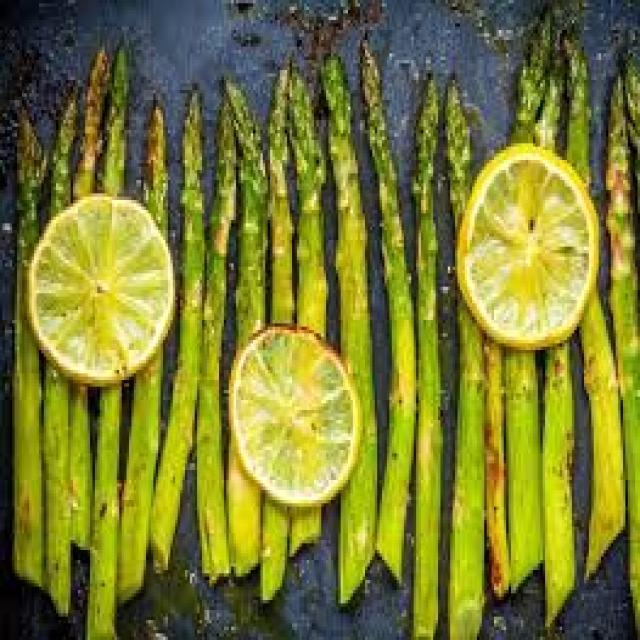organic waste: (319, 50, 377, 600), (358, 33, 413, 580), (452, 137, 598, 343), (530, 76, 582, 636), (22, 190, 170, 380), (114, 96, 170, 596), (441, 63, 489, 637), (146, 77, 202, 560), (569, 80, 623, 570), (222, 320, 360, 500), (501, 4, 543, 594), (71, 36, 112, 636), (36, 86, 78, 616), (280, 60, 324, 543), (409, 66, 443, 636), (604, 70, 638, 637), (224, 70, 260, 570), (197, 90, 231, 577), (258, 56, 287, 596), (10, 97, 39, 583), (68, 44, 88, 534), (479, 337, 511, 603), (623, 43, 638, 240)
